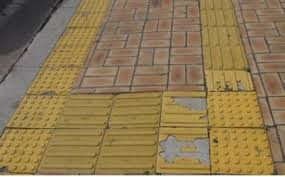guide_blocks: (7, 90, 269, 175), (199, 1, 253, 88), (27, 29, 95, 90), (67, 1, 106, 28)
